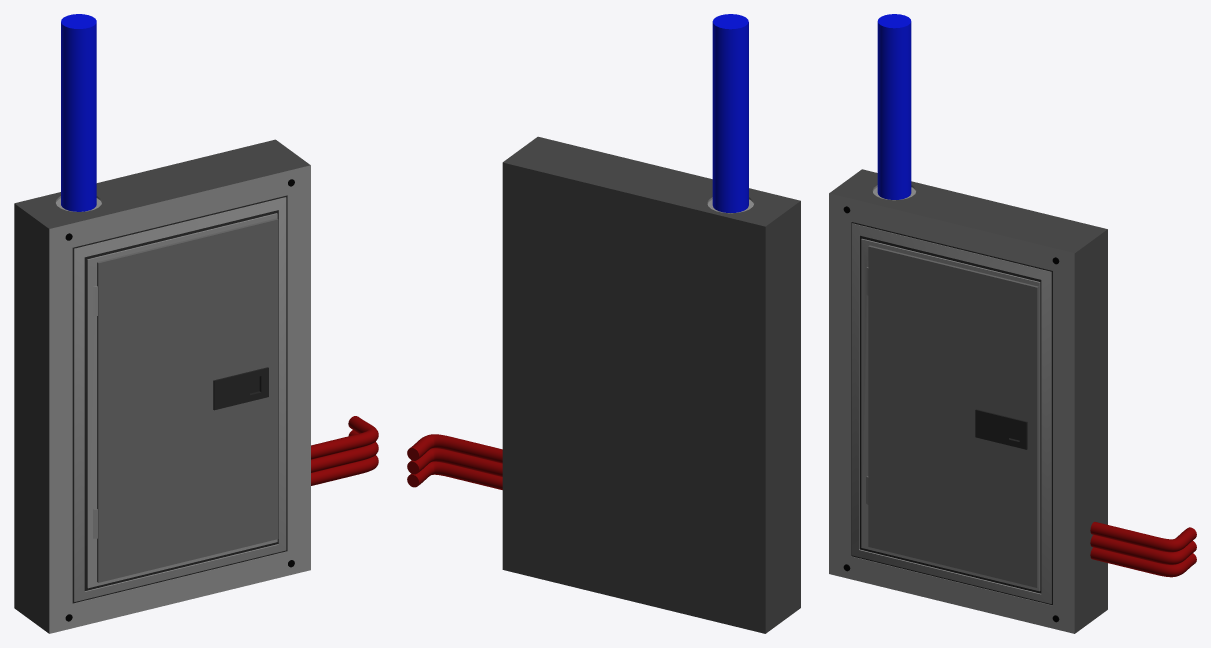
Rendered from breaker box.fbx.
3 views of the same model, side by side, from view 1: azimuth 30°, elevation 25°; view 2: azimuth 150°, elevation 25°; view 3: azimuth 330°, elevation 25° (orthographic). The views are drawn at different scales.
Parts seen in each view (by area): view 1: Cube.005, Cube, Cube.006, Cube.004, Cube.007, Cube.003, Cube.001; view 2: Cube.006, Cube.004, Cube.003; view 3: Cube.005, Cube, Cube.006, Cube.004, Cube.007, Cube.003, Cube.001.
Part boxes in pixels (<box>): Cube.005: <box>97,218,278,582</box>; Cube: <box>49,165,310,633</box>; Cube.006: <box>14,139,310,633</box>; Cube.004: <box>61,14,96,211</box>; Cube.007: <box>72,195,287,603</box>; Cube.003: <box>311,416,378,485</box>; Cube.001: <box>213,367,268,410</box>; Cube.006: <box>502,136,800,633</box>; Cube.004: <box>712,14,748,212</box>; Cube.003: <box>407,434,502,489</box>; Cube.005: <box>868,245,1038,587</box>; Cube: <box>829,185,1074,633</box>; Cube.006: <box>829,169,1107,633</box>; Cube.004: <box>877,14,911,199</box>; Cube.007: <box>851,222,1052,605</box>; Cube.003: <box>1090,522,1196,577</box>; Cube.001: <box>975,409,1027,449</box>.
Size of the model in its own units: 270 by 428 by 59.37.
